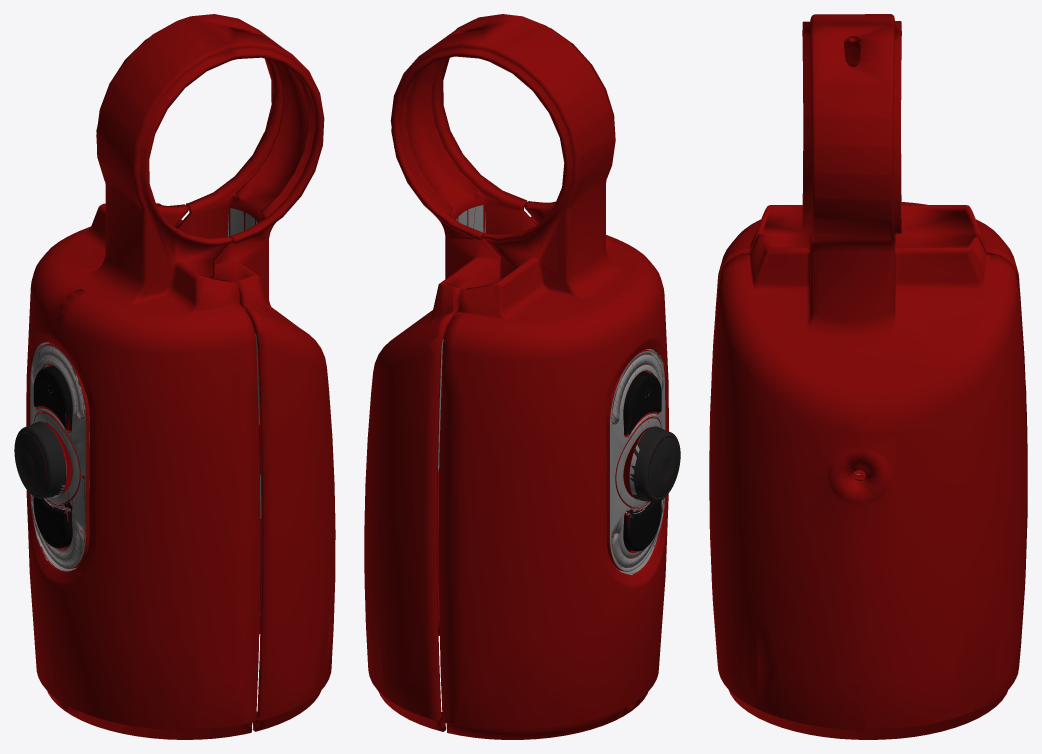
The picture shows the model from 3 angles, left to right: view 1: azimuth 30°, elevation 25°; view 2: azimuth 150°, elevation 25°; view 3: azimuth 270°, elevation 25°; orthographic projection. The views are drawn at different scales.
Parts seen in each view (by area): view 1: W0; view 2: W0; view 3: W0.
Boxes of the visible parts, x1,y1,x2,y2 form: W0: (14, 14, 335, 739); W0: (364, 14, 680, 739); W0: (709, 14, 1027, 739).
Bounding box in the file's own units: 0.1581 × 0.1483 × 0.3418.
